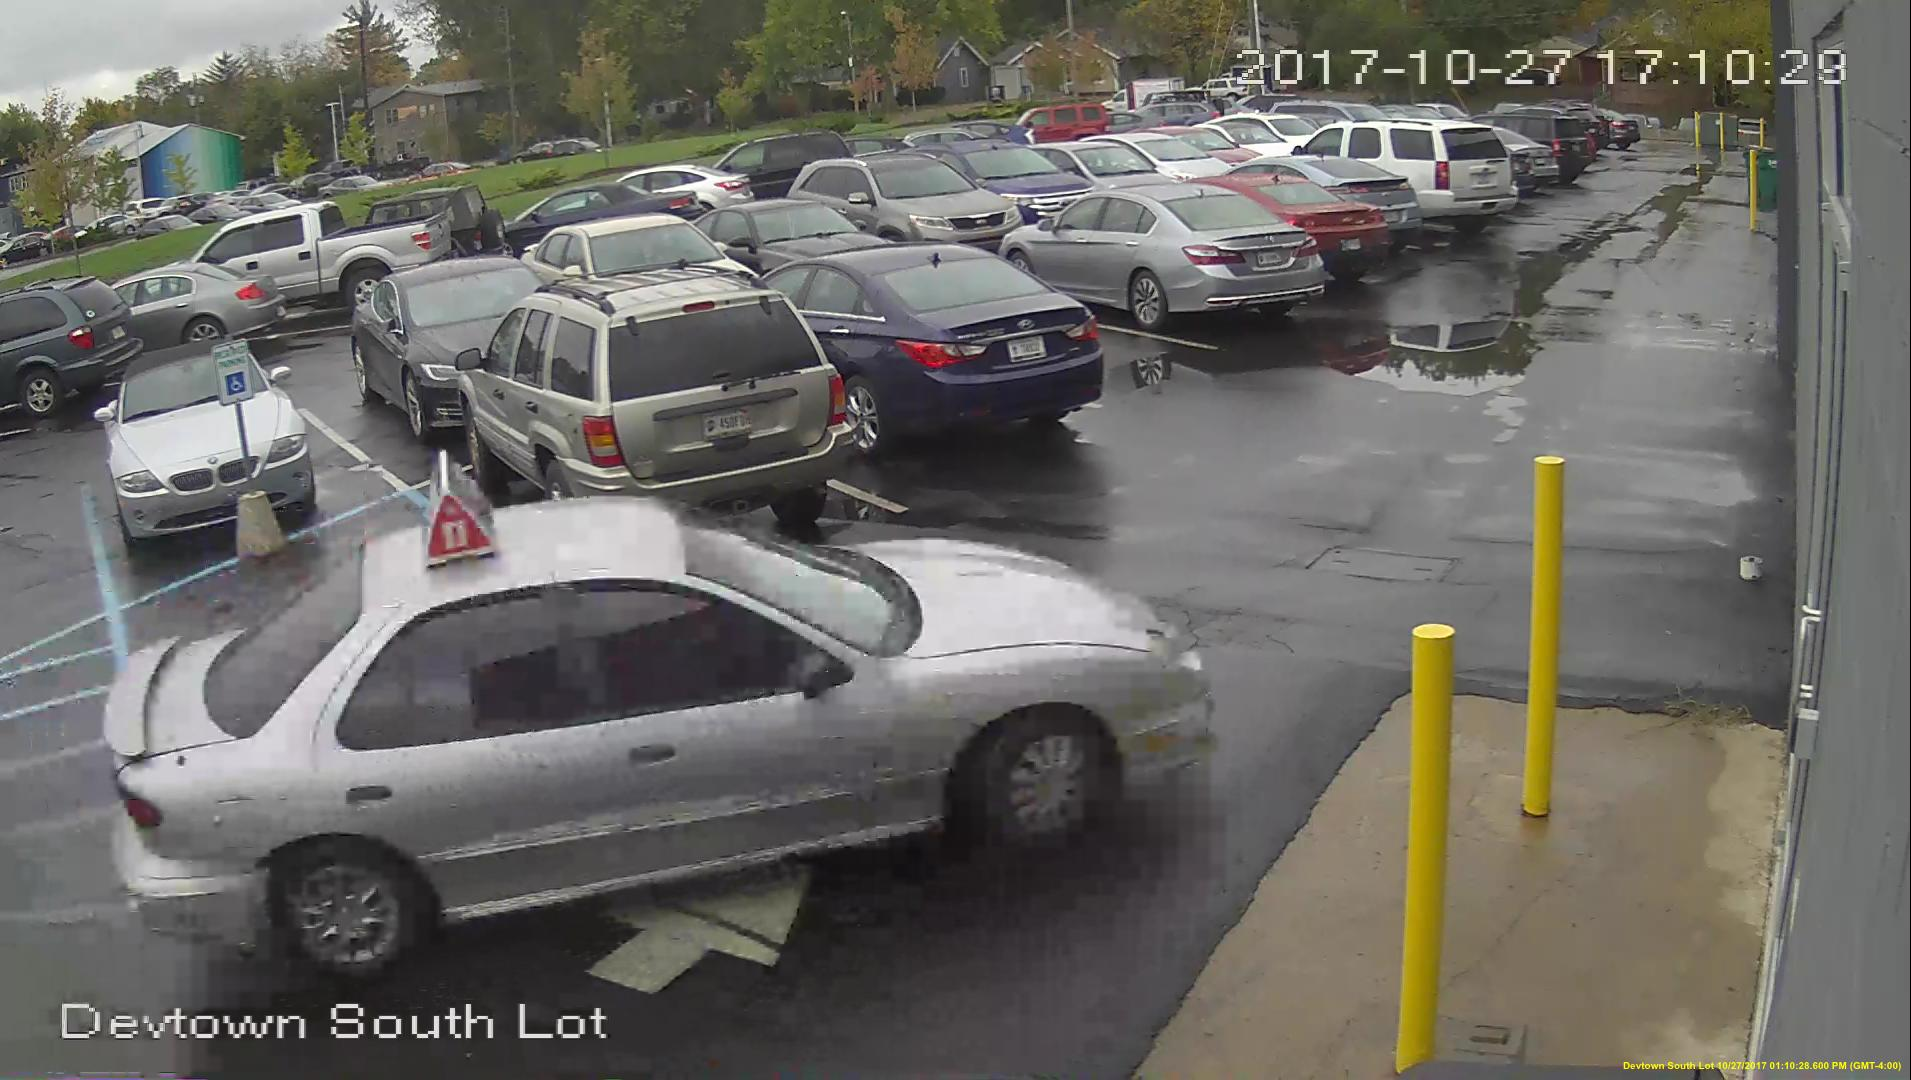jimmy_johns: (417, 447, 499, 568)
